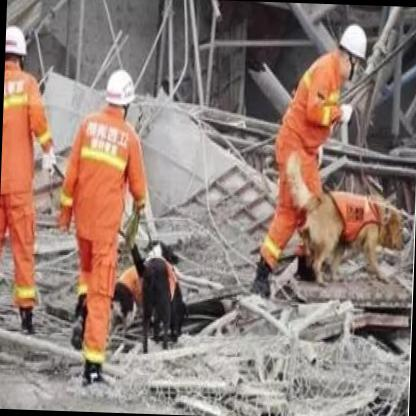helmet: (101, 66, 136, 121), (336, 21, 368, 80), (4, 22, 30, 74)
